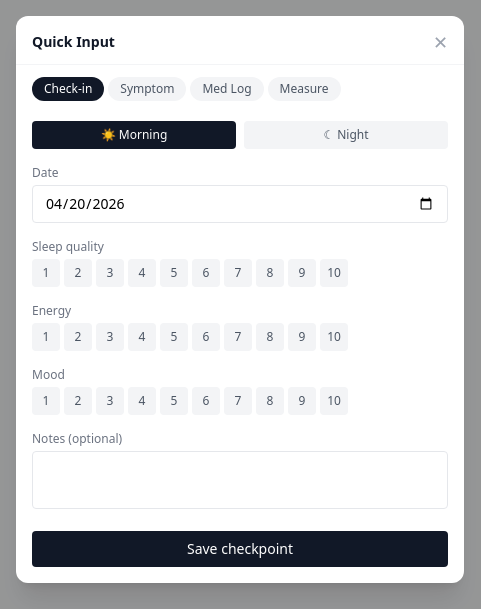
Quick Input — Symptom started_at collapsible (Q1) › shows "edit time" link by default, hides datetime input
The image size is (481, 609).
Click the button "Symptom" at (147, 88), box [108,76,186,100]
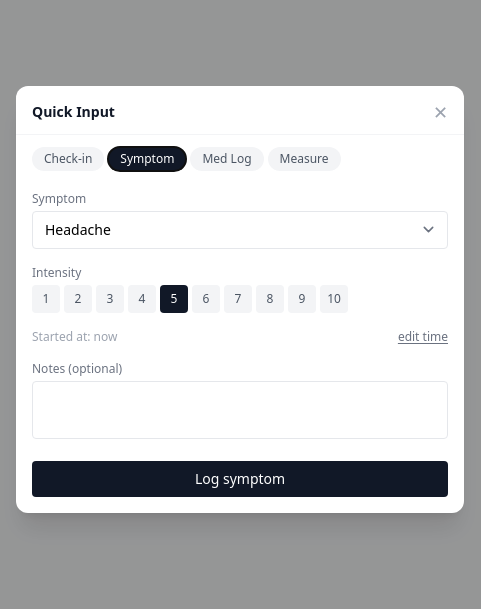
Now the button "edit time" is shown, box [398,328,448,344]
